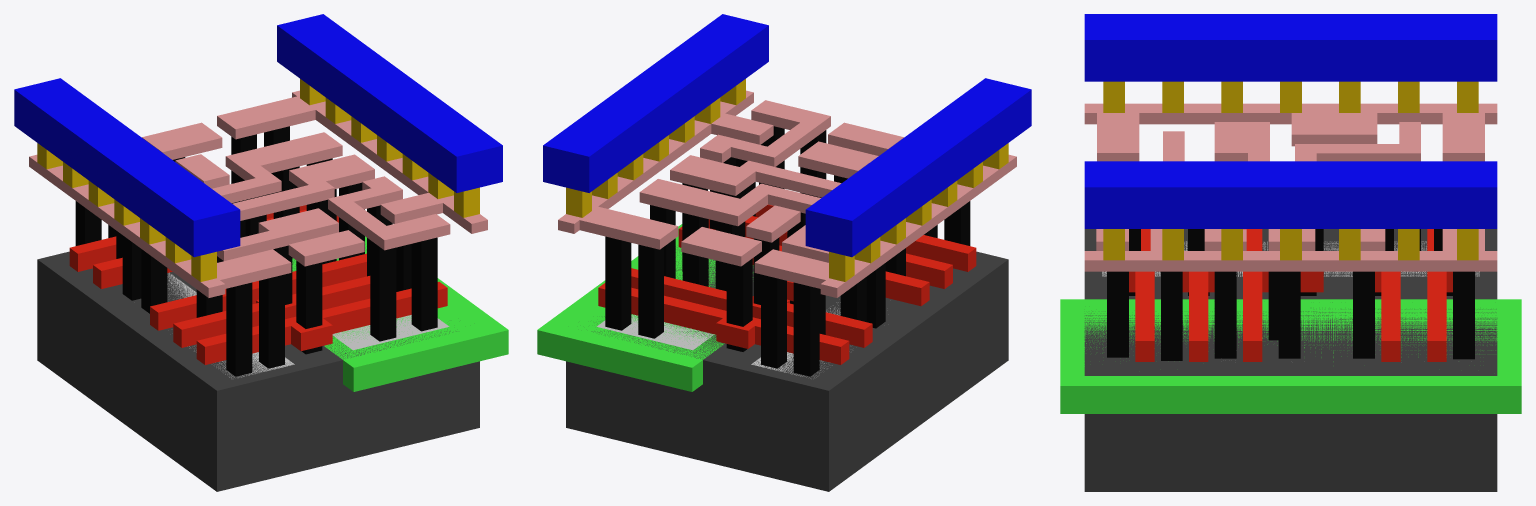
File: sky130_fd_sc_hd__a2bb2oi_1.obj
The picture shows the model from 3 angles, left to right: view 1: azimuth 30°, elevation 25°; view 2: azimuth 150°, elevation 25°; view 3: azimuth 270°, elevation 25°; orthographic projection. The views are drawn at different scales.
Visible parts, largest first — view 1: subs, metal1, li, licon, poly, nwell, mcon, tap, diff; view 2: subs, metal1, li, licon, poly, nwell, mcon, tap; view 3: metal1, subs, nwell, li, licon, poly, mcon, diff.
Boxes of the visible parts, left/top/right/bottom form: subs: left=37, top=249, right=479, bottom=491; metal1: left=14, top=14, right=502, bottom=257; li: left=29, top=90, right=487, bottom=297; licon: left=75, top=126, right=437, bottom=376; poly: left=69, top=205, right=447, bottom=364; nwell: left=292, top=236, right=508, bottom=391; mcon: left=37, top=79, right=479, bottom=281; tap: left=332, top=315, right=449, bottom=350; diff: left=167, top=272, right=294, bottom=378; subs: left=566, top=247, right=1008, bottom=491; metal1: left=543, top=14, right=1031, bottom=257; li: left=558, top=90, right=1016, bottom=297; licon: left=605, top=126, right=970, bottom=376; poly: left=598, top=204, right=976, bottom=364; nwell: left=537, top=224, right=753, bottom=391; mcon: left=566, top=79, right=1008, bottom=281; tap: left=596, top=314, right=714, bottom=350; metal1: left=1084, top=14, right=1497, bottom=228; subs: left=1084, top=229, right=1497, bottom=491; nwell: left=1060, top=299, right=1521, bottom=413; li: left=1084, top=103, right=1497, bottom=271; licon: left=1107, top=229, right=1474, bottom=360; poly: left=1129, top=229, right=1452, bottom=361; mcon: left=1103, top=81, right=1478, bottom=260; diff: left=1102, top=241, right=1479, bottom=276.
Size of the model in its own units: 3.2 by 2.74 by 3.6.
